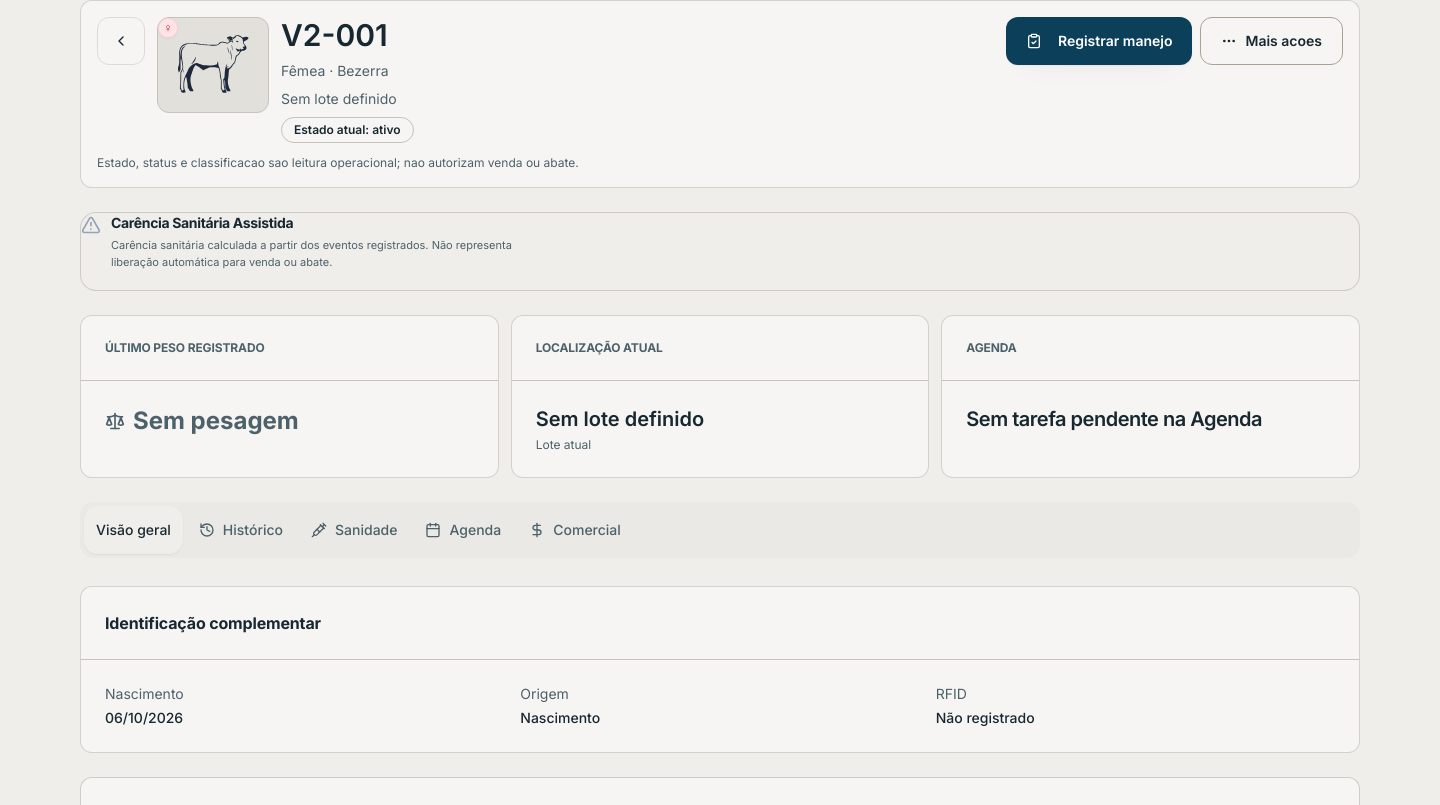
Scenario: AnimalDetalhe › abre Visão geral e mantém casos e suas ações dentro de Sanidade
Expected: the heading "Identificação complementar" is shown, [105,613,321,633]
Expected: the text "06/10/2026" is shown, [105,709,183,726]
Click the tab "Sanidade" at (354, 530), box [299,506,409,554]
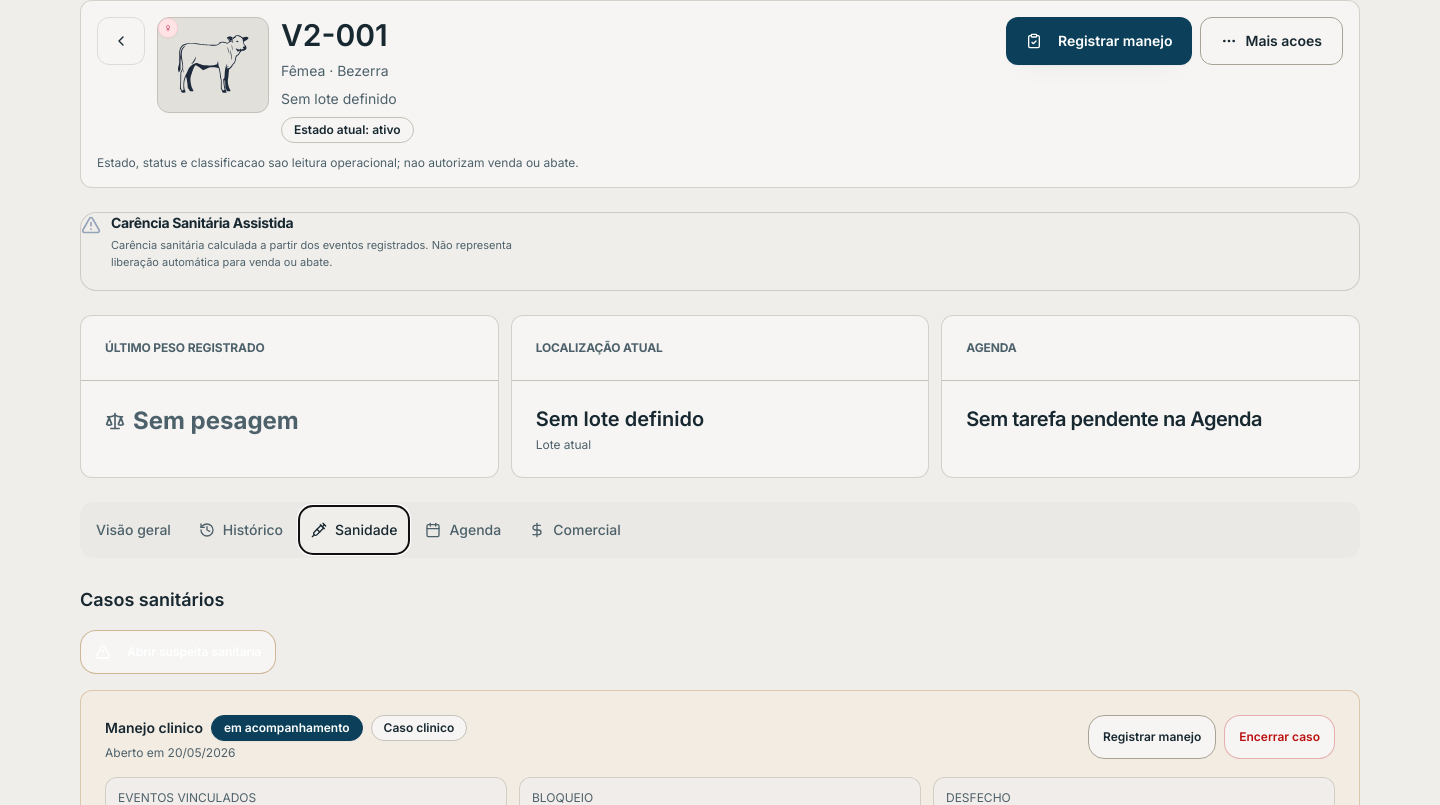
Click the button "Encerrar caso" at (1280, 737), box [1224,715,1335,759]
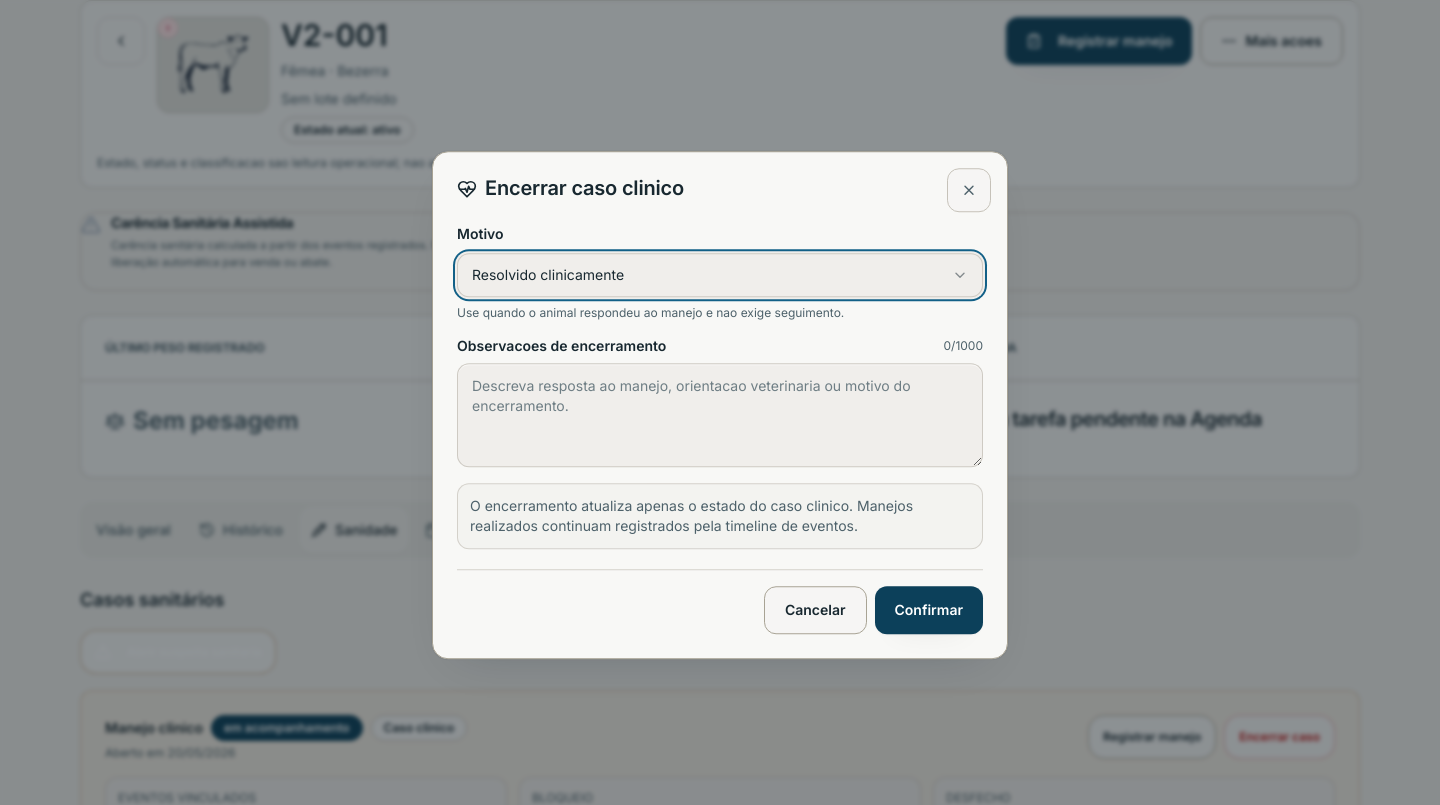
Now the dialog is shown, box [432,151,1008,659]
Now the heading "Encerrar caso clinico" is shown, box [457,176,684,200]
